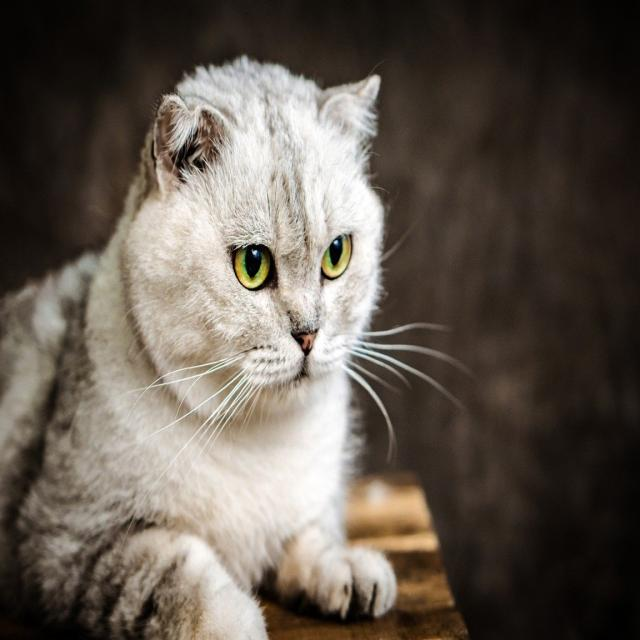Scottish Fold: (0, 48, 402, 640)
